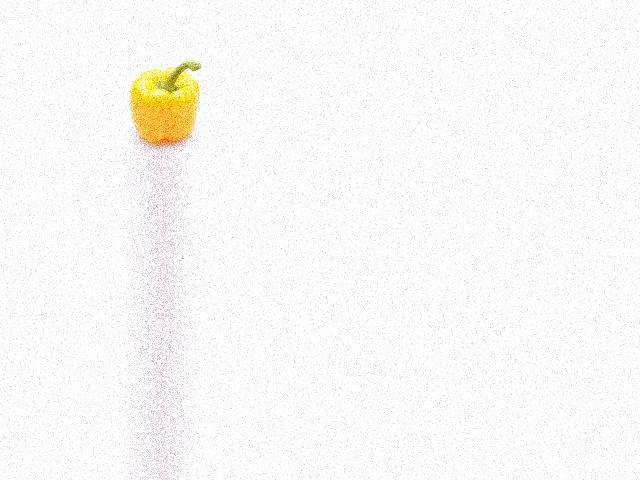bell_pepper: (123, 63, 203, 144)
